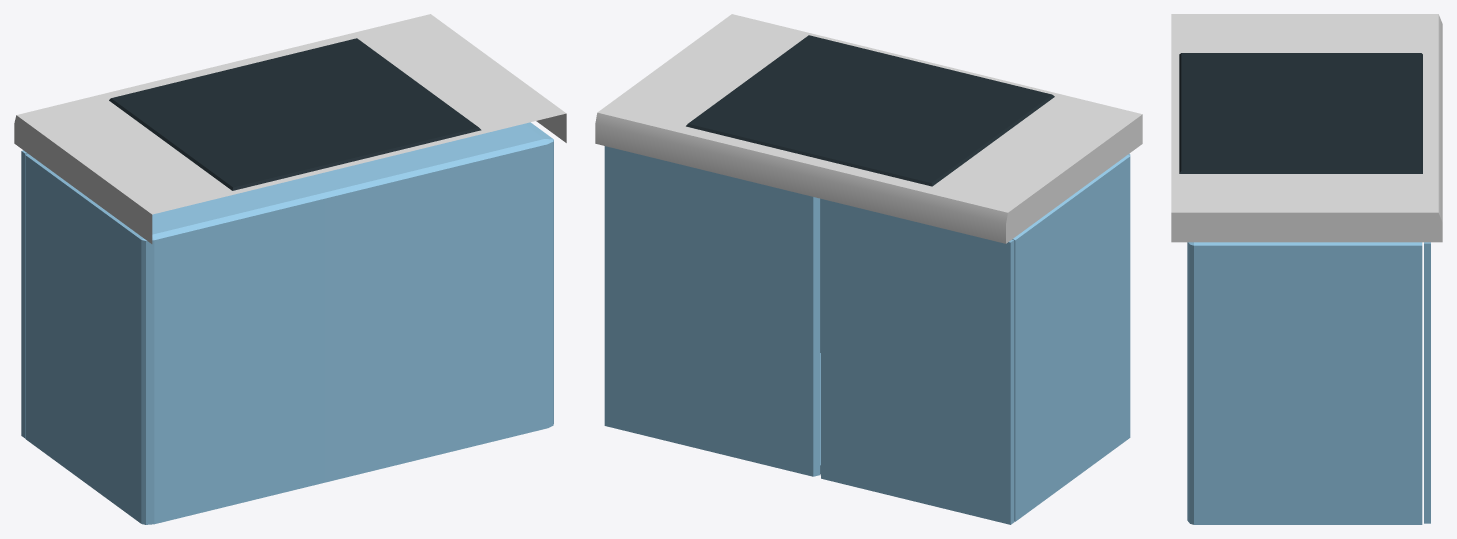
File: Prop_kitchentop3.FBX
3 views of the same model, side by side, from view 1: azimuth 30°, elevation 25°; view 2: azimuth 150°, elevation 25°; view 3: azimuth 270°, elevation 25° (orthographic).
Visible parts, largest first — view 1: Prop_closet037, Prop_kitchentz, Prop_kitchentop004, Prop_closet036; view 2: Prop_closet035, Prop_closet036, Prop_kitchentop004, Prop_closet037, Prop_kitchentz; view 3: Prop_closet037, Prop_kitchentop004, Prop_kitchentz, Prop_closet035.
Part boxes in pixels (box(x1,y1,x2,y2)): Prop_closet037: box(25, 122, 553, 524); Prop_kitchentz: box(109, 38, 481, 190); Prop_kitchentop004: box(14, 14, 566, 243); Prop_closet036: box(21, 150, 27, 437); Prop_closet035: box(604, 146, 819, 476); Prop_closet036: box(820, 199, 1014, 524); Prop_kitchentop004: box(595, 14, 1142, 243); Prop_closet037: box(820, 153, 1130, 521); Prop_kitchentz: box(686, 35, 1054, 186); Prop_closet037: box(1187, 242, 1422, 524); Prop_kitchentop004: box(1171, 14, 1442, 242); Prop_kitchentz: box(1179, 53, 1422, 173); Prop_closet035: box(1424, 242, 1430, 523).
Bounding box in the file's own units: 51.62 × 29.76 × 38.15.
